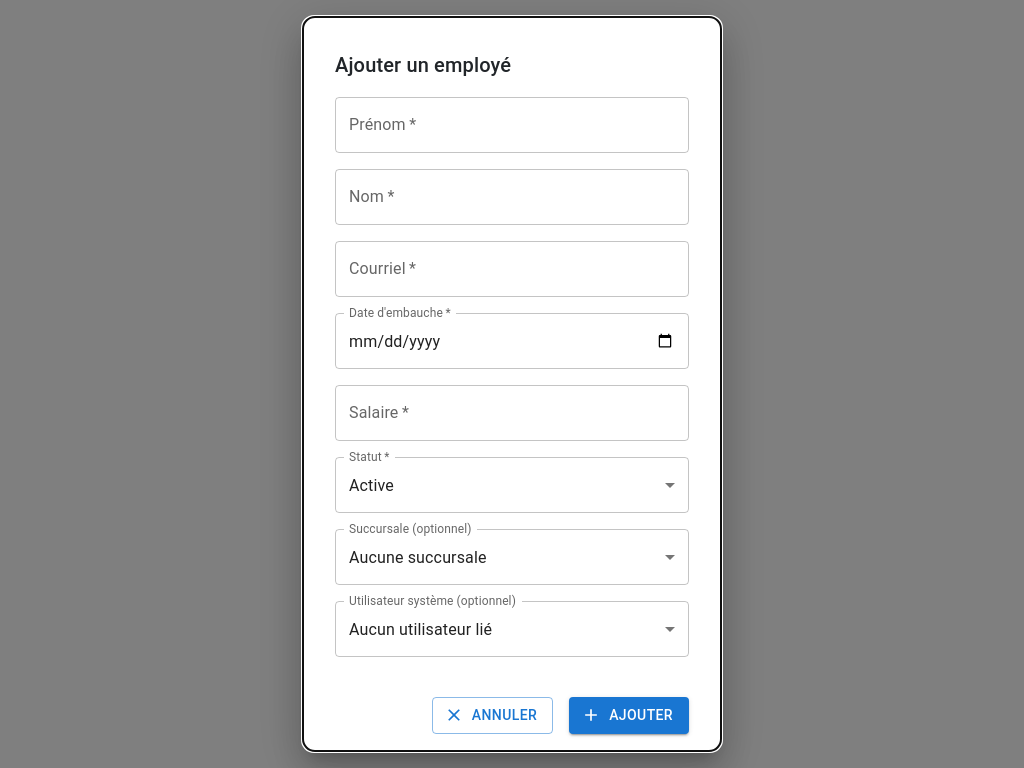
Test case: EmployeeProfileForm › should render the form with dropdown options from mocked queries
Expected: the heading "Ajouter un employé" is shown, [335, 53, 511, 77]
What coordinates should you click on to do the following:
click the dropdown named "utilisateur système (optionnel)"
I would click on:
 (421, 629)
Its box is [349, 620, 492, 638].
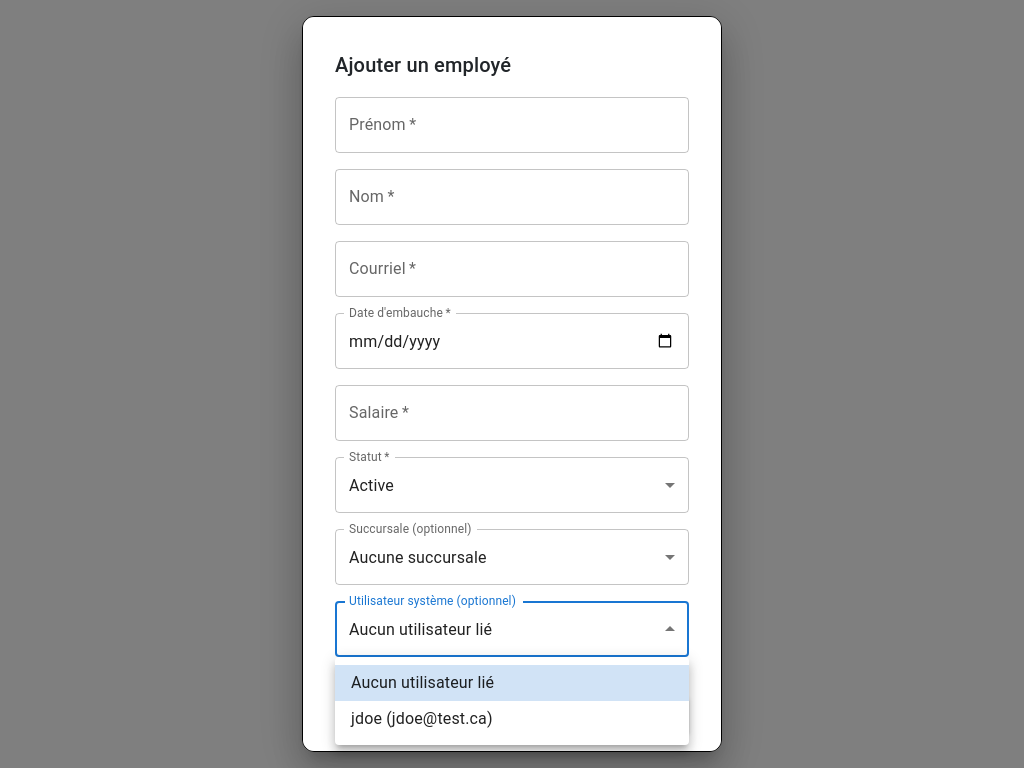
Now the option "jdoe (jdoe@test.ca)" is shown, box [351, 709, 493, 728]
Now the option "Aucun utilisateur lié" is shown, box [335, 665, 689, 701]
